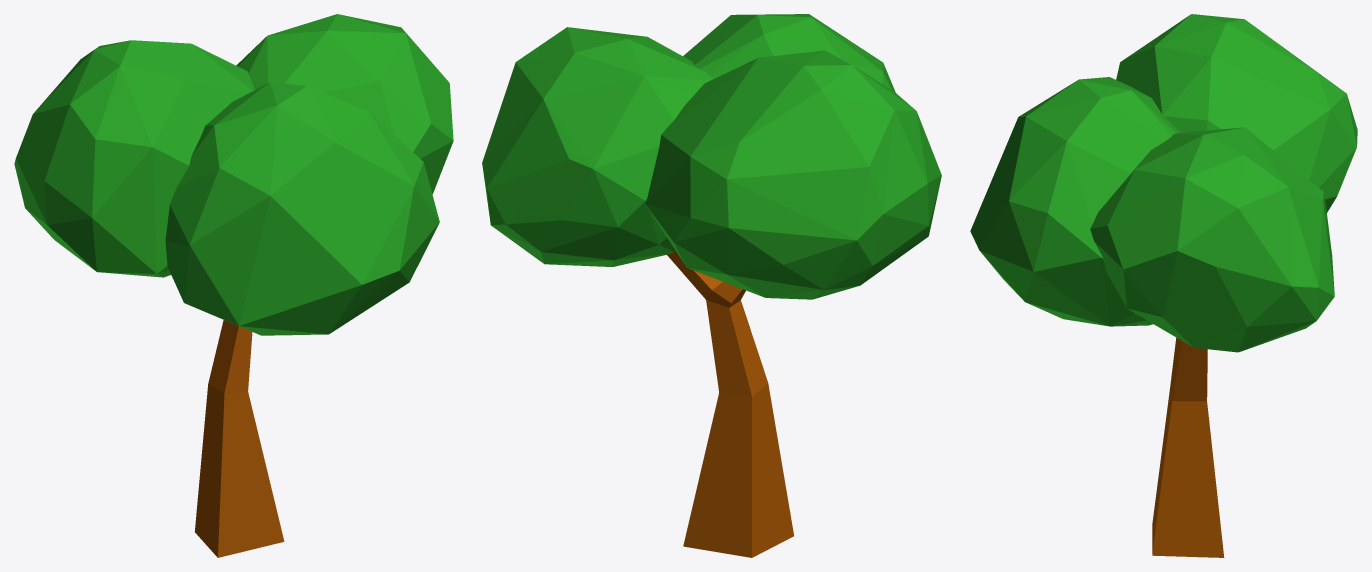
The model's file is Tree2.fbx.
The picture shows the model from 3 angles, left to right: view 1: azimuth 30°, elevation 25°; view 2: azimuth 150°, elevation 25°; view 3: azimuth 270°, elevation 25°; orthographic projection. The views are drawn at different scales.
Visible parts, largest first — view 1: Tree2; view 2: Tree2; view 3: Tree2.
Boxes of the visible parts, x1=… form: Tree2: x1=14, y1=14, x2=453, y2=557; Tree2: x1=482, y1=14, x2=941, y2=557; Tree2: x1=970, y1=14, x2=1357, y2=557.
Bounding box in the file's own units: 7.56 × 6.65 × 9.08.
